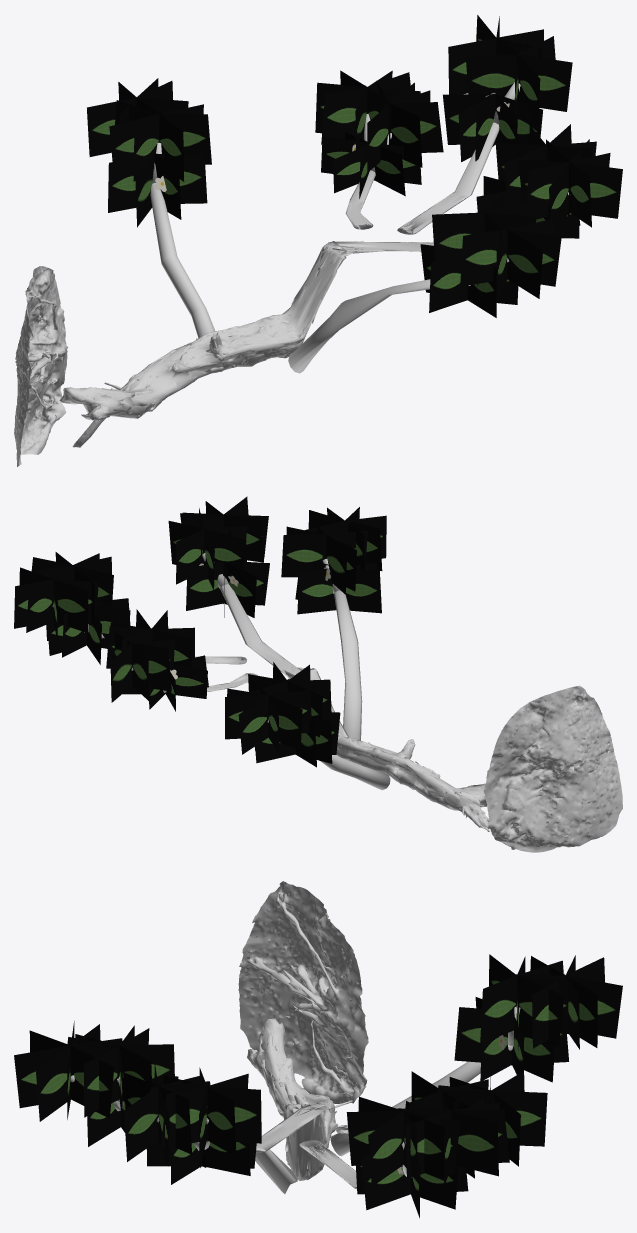
The model's file is FallenFrangipani.fbx.
3 views of the same model, one above another, from view 1: azimuth 30°, elevation 25°; view 2: azimuth 150°, elevation 25°; view 3: azimuth 270°, elevation 25° (orthographic). The views are drawn at different scales.
Visible parts, largest first — view 1: Static__Tree_FRANG_Leaf, Static__Tree_FRANG_Bark, Static__Tree_root_cluster_01; view 2: Static__Tree_FRANG_Leaf, Static__Tree_root_cluster_01, Static__Tree_FRANG_Bark; view 3: Static__Tree_FRANG_Leaf, Static__Tree_root_cluster_01, Static__Tree_FRANG_Bark.
Part boxes in pixels (x1,y1,x2,y2): Static__Tree_FRANG_Leaf: [87, 15, 622, 317]; Static__Tree_FRANG_Bark: [59, 82, 568, 447]; Static__Tree_root_cluster_01: [14, 266, 67, 466]; Static__Tree_FRANG_Leaf: [14, 496, 386, 767]; Static__Tree_root_cluster_01: [483, 685, 622, 852]; Static__Tree_FRANG_Bark: [52, 553, 515, 849]; Static__Tree_FRANG_Leaf: [14, 954, 622, 1218]; Static__Tree_root_cluster_01: [238, 881, 368, 1103]; Static__Tree_FRANG_Bark: [70, 1006, 520, 1193].
Bounding box in the file's own units: 569 × 220 × 452.
